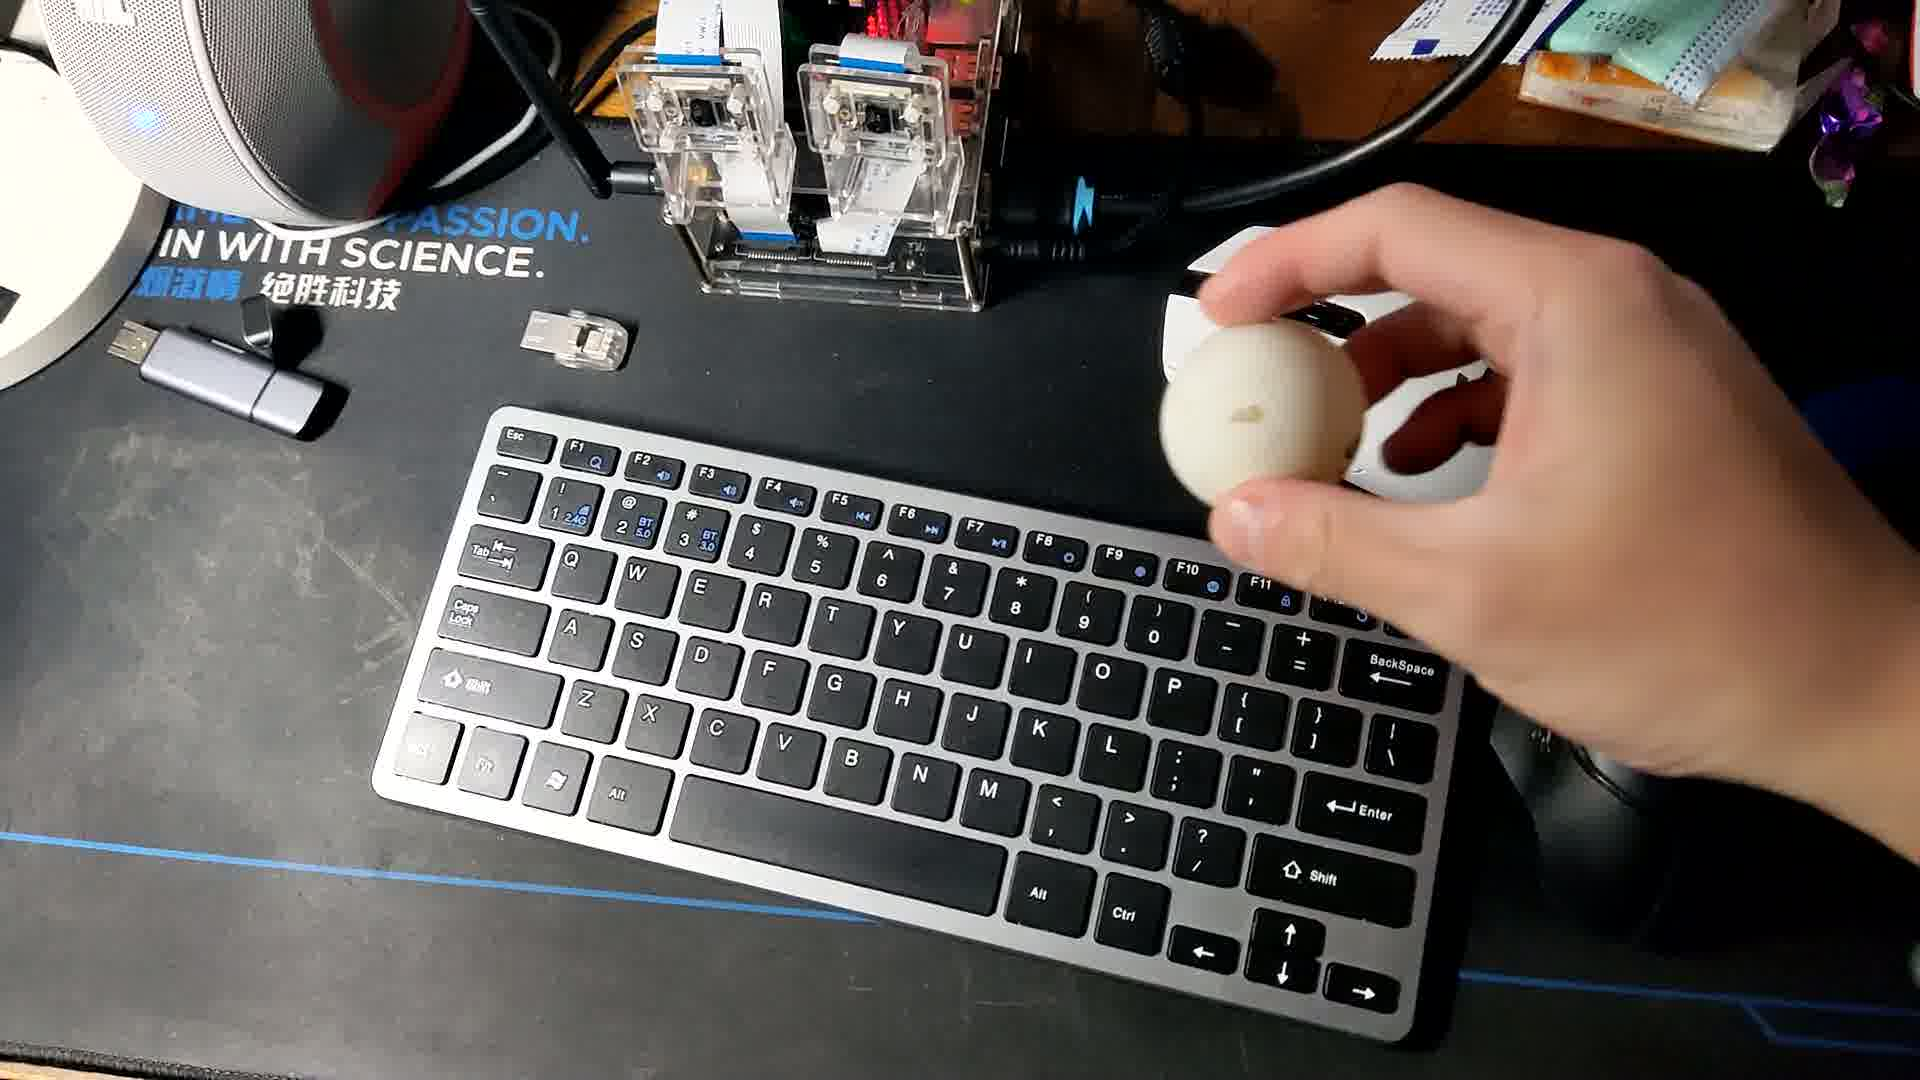Ball: (1155, 316, 1367, 498)
